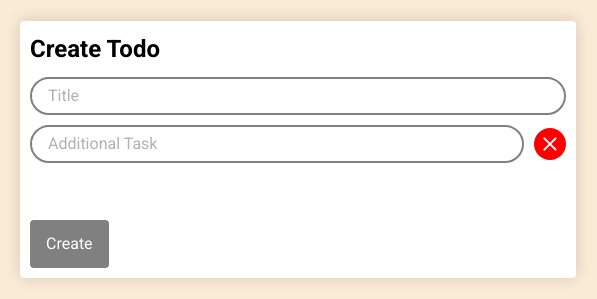
CreateTodoForm › removes an input field when the remove button is clicked
Expected: the field named "description" is shown, top-left (48, 135), bottom-right (506, 153)
Click the button named "remove" at (550, 144), box top-left (534, 128), bottom-right (566, 160)
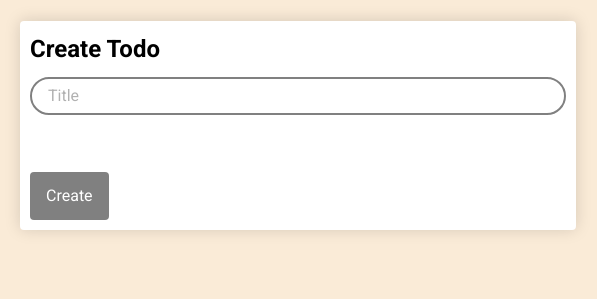
Expected: the field labelled "description" is gone
